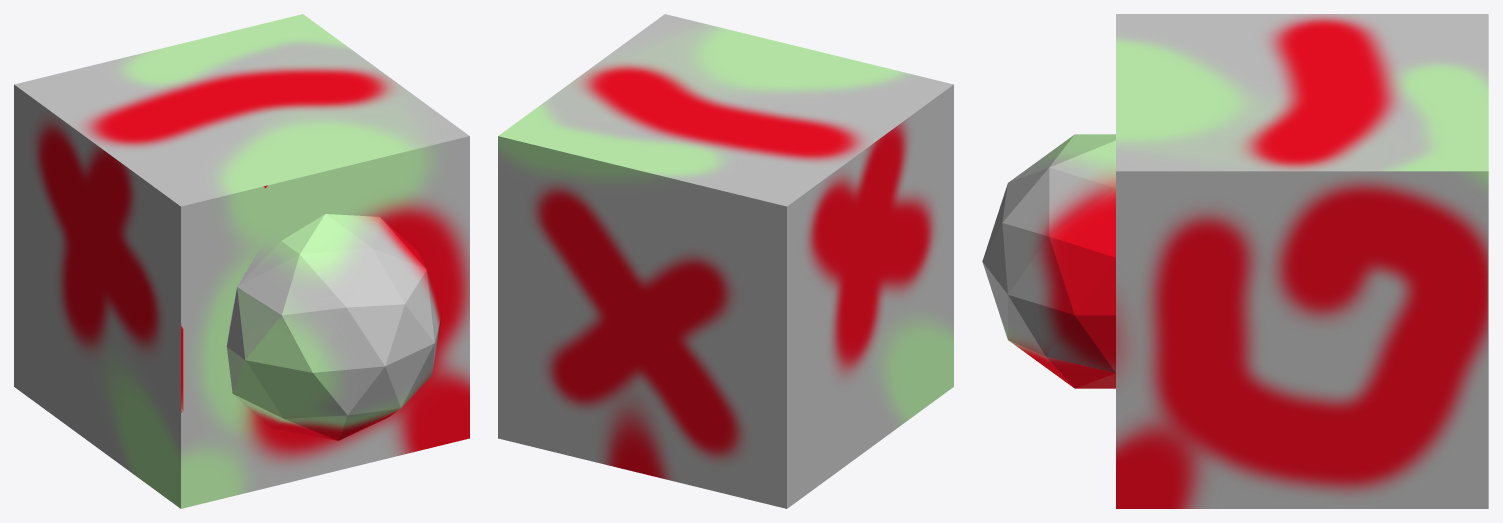
File: customModel.fbx
The picture shows the model from 3 angles, left to right: view 1: azimuth 30°, elevation 25°; view 2: azimuth 150°, elevation 25°; view 3: azimuth 270°, elevation 25°; orthographic projection. The views are drawn at different scales.
Parts seen in each view (by area): view 1: Icosphere; view 2: Icosphere; view 3: Icosphere.
Boxes of the visible parts, x1,y1,x2,y2 form: Icosphere: (14, 14, 469, 508); Icosphere: (498, 14, 953, 508); Icosphere: (982, 14, 1488, 508).
Size of the model in its own units: 200 by 200 by 272.
